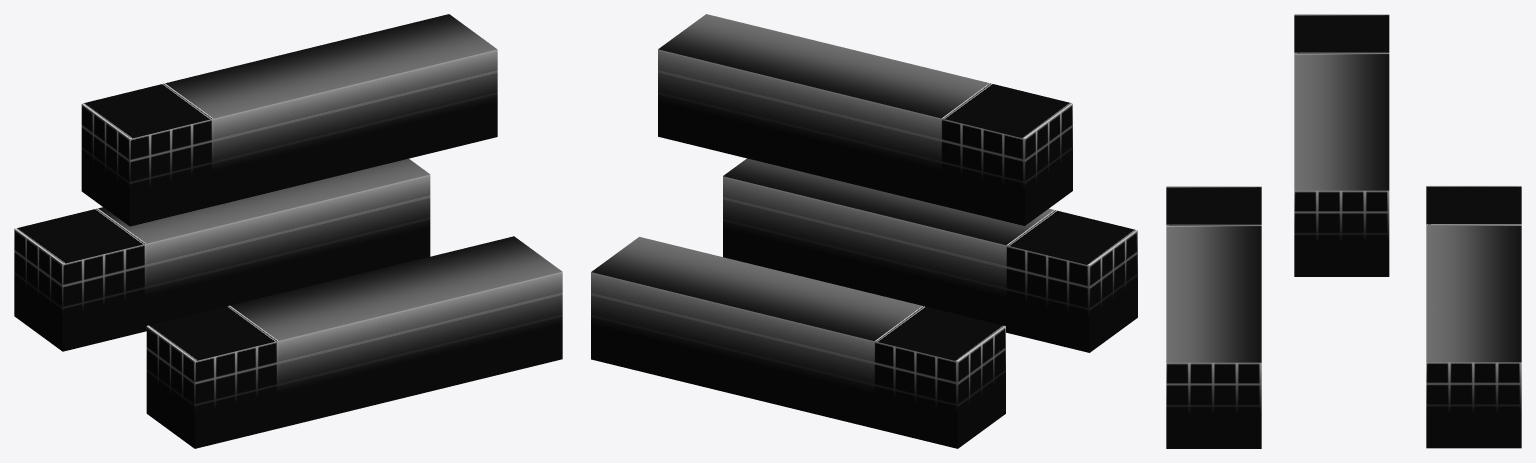
Rendered from scifi_cube_roof.dae.
The picture shows the model from 3 angles, left to right: view 1: azimuth 30°, elevation 25°; view 2: azimuth 150°, elevation 25°; view 3: azimuth 270°, elevation 25°; orthographic projection.
Parts seen in each view (by area): view 1: Cube.002, Cube.001, Cube; view 2: Cube.002, Cube, Cube.001; view 3: Cube, Cube.002, Cube.001.
Boxes of the visible parts, box(x1,y1,x2,y2) form: Cube.002: box(81, 14, 497, 226); Cube.001: box(146, 236, 562, 448); Cube: box(14, 158, 430, 351); Cube.002: box(658, 14, 1072, 225); Cube: box(591, 237, 1005, 448); Cube.001: box(723, 158, 1137, 352); Cube: box(1426, 185, 1521, 448); Cube.002: box(1294, 14, 1389, 276); Cube.001: box(1166, 186, 1261, 448).
Size of the model in its own units: 8.78 by 7.46 by 5.99.
2 materials, 2 textured.
